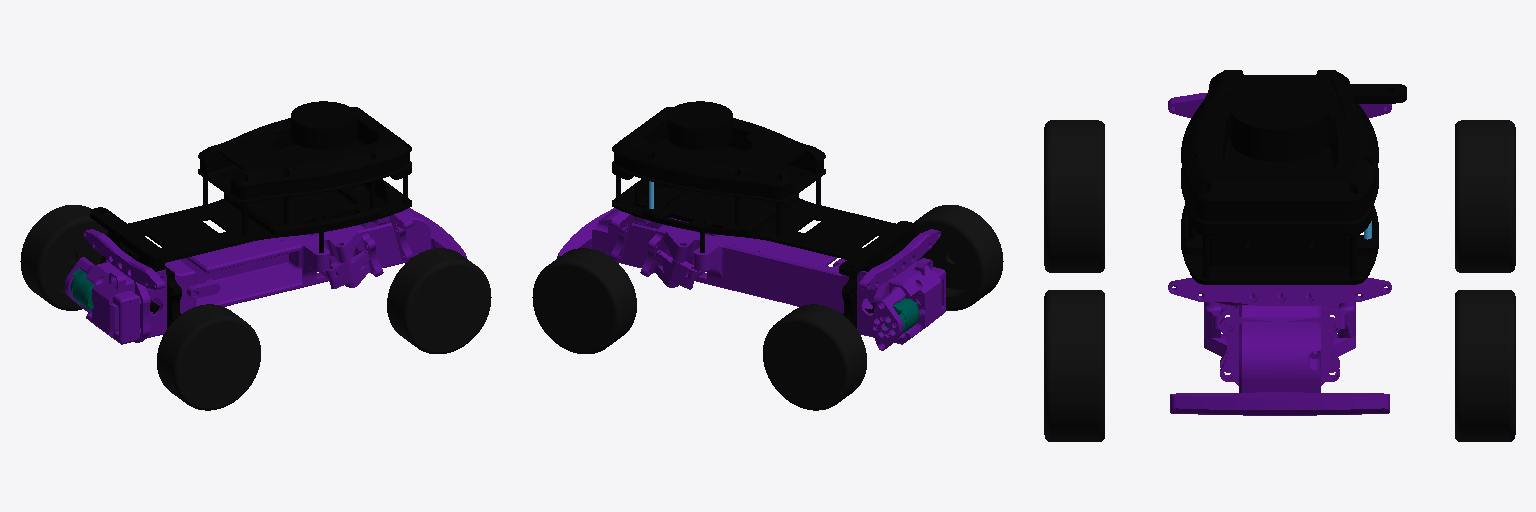
--- Facts derived from the render (not from the file) ---
The picture shows the robot from 3 angles, left to right: view 1: azimuth 30°, elevation 25°; view 2: azimuth 150°, elevation 25°; view 3: azimuth 270°, elevation 25°; orthographic projection.
Robot: car — 15 links, 14 joints (2 revolute, 4 continuous, 4 prismatic, 4 fixed); root link base_link; default pose: all joints at 0.
Visible links, largest first — view 1: chassis_visual, front_right_wheel, rear_right_wheel, rear_left_wheel, base_laser; view 2: chassis_visual, front_left_wheel, rear_left_wheel, rear_right_wheel, base_laser; view 3: chassis_visual, rear_left_wheel, rear_right_wheel, front_left_wheel, front_right_wheel, base_laser.
Link boxes in pixels (left/top/right/bottom): chassis_visual: left=64, top=107, right=466, bottom=344; front_right_wheel: left=387, top=248, right=491, bottom=353; rear_right_wheel: left=157, top=304, right=260, bottom=410; rear_left_wheel: left=20, top=205, right=107, bottom=310; base_laser: left=291, top=101, right=356, bottom=149; chassis_visual: left=557, top=107, right=945, bottom=350; front_left_wheel: left=532, top=248, right=636, bottom=353; rear_left_wheel: left=763, top=304, right=866, bottom=410; rear_right_wheel: left=914, top=205, right=1003, bottom=310; base_laser: left=667, top=101, right=732, bottom=149; chassis_visual: left=1168, top=70, right=1406, bottom=415; rear_left_wheel: left=1455, top=120, right=1515, bottom=272; rear_right_wheel: left=1044, top=120, right=1104, bottom=272; front_left_wheel: left=1455, top=290, right=1515, bottom=441; front_right_wheel: left=1044, top=290, right=1104, bottom=441; base_laser: left=1230, top=88, right=1329, bottom=161.
Size in the robot's own frame: 0.4235 by 0.333 by 0.2275 metres.
Meshes: 30 distinct files referenced, 42 mesh visuals loaded (29 binary STL); not drawn: 1 (reference not matched to a file when rendering).

robot.urdf — car:
<?xml version="1.0" ?>
<!-- =================================================================================== -->
<!-- |    This document was autogenerated by xacro from car.urdf.xacro                 | -->
<!-- |    EDITING THIS FILE BY HAND IS NOT RECOMMENDED                                 | -->
<!-- =================================================================================== -->
<robot name="car">
  <material name="pla">
    <color rgba="0.4 0.1 0.6 1.0"/>
  </material>
  <material name="pla_black">
    <color rgba="0.05 0.05 0.05 1.0"/>
  </material>
  <material name="aluminum">
    <color rgba="0.75 0.75 0.75 1.0"/>
  </material>
  <material name="rubber">
    <color rgba="0.1 0.1 0.1 1"/>
  </material>
  <link name="base_link">
    <inertial>
      <origin rpy="0 -0 0" xyz="0 -0 0.1"/>
      <mass value="1.2"/>
      <inertia ixx="0.00164" ixy="0" ixz="0" iyy="0.01" iyz="0" izz="0.00964"/>
    </inertial>
  </link>
  <link name="chassis_visual">
    <collision>
      <origin rpy="-3.2732333544360483958e-15 0.2617993877991453 -3.141592653589758477" xyz="0.19593310870444985428 -0.023861467502207221042 0.032178813240731983514"/>
      <geometry>
        <mesh filename="package://rviz_description/meshes/a01.stl"/>
      </geometry>
    </collision>
    <visual>
      <origin rpy="-3.2732333544360483958e-15 0.2617993877991453 -3.141592653589758477" xyz="0.19593310870444985428 -0.023861467502207221042 0.032178813240731983514"/>
      <geometry>
        <mesh filename="package://rviz_description/meshes/a01.stl"/>
      </geometry>
      <material name="pla">
        </material>
    </visual>
    <collision>
      <origin rpy="-3.3417470151423496181e-15 1.5267451514876481878e-15 -1.5707963267948608088" xyz="0.041230177353335013823 0.0081385453814205033218 0.046435964631839833638"/>
      <geometry>
        <mesh filename="package://rviz_description/meshes/base_plate.stl"/>
      </geometry>
    </collision>
    <visual>
      <material name="pla_black">
        </material>
      <origin rpy="-3.3417470151423496181e-15 1.5267451514876481878e-15 -1.5707963267948608088" xyz="0.041230177353335013823 0.0081385453814205033218 0.046435964631839833638"/>
      <geometry>
        <mesh filename="package://rviz_description/meshes/base_plate.stl"/>
      </geometry>
    </visual>
    <collision>
      <origin rpy="-3.3417470151423496181e-15 1.5267451514876481878e-15 -1.5707963267948608088" xyz="0.04123017735333503464 0.0081385453814205102607 0.046435964631839812822"/>
      <geometry>
        <mesh filename="package://rviz_description/meshes/lidar_hat.stl"/>
      </geometry>
    </collision>
    <visual>
      <origin rpy="-3.3417470151423496181e-15 1.5267451514876481878e-15 -1.5707963267948608088" xyz="0.04123017735333503464 0.0081385453814205102607 0.046435964631839812822"/>
      <geometry>
        <mesh filename="package://rviz_description/meshes/lidar_hat.stl"/>
      </geometry>
      <material name="pla_black">
        </material>
    </visual>
    <collision>
      <origin rpy="0.2587527927311239484 -0.040277584424269617658 -1.4198241414961039197" xyz="0.13670687602963785268 -0.03936145461857500083 -0.014959800155109849104"/>
      <geometry>
        <mesh filename="package://rviz_description/meshes/a07.stl"/>
      </geometry>
    </collision>
    <visual>
      <origin rpy="0.2587527927311239484 -0.040277584424269617658 -1.4198241414961039197" xyz="0.13670687602963785268 -0.03936145461857500083 -0.014959800155109849104"/>
      <geometry>
        <mesh filename="package://rviz_description/meshes/a07.stl"/>
      </geometry>
      <material name="pla">
        </material>
    </visual>
    <collision>
      <origin rpy="-3.3417470151423511958e-15 1.526745151487648385e-15 -1.5707963267948608088" xyz="0.04123017735333503464 0.0081385453814205033218 0.046435964631839812822"/>
      <geometry>
        <mesh filename="package://rviz_description/meshes/cover_plate.stl"/>
      </geometry>
    </collision>
    <visual>
      <origin rpy="-3.3417470151423511958e-15 1.526745151487648385e-15 -1.5707963267948608088" xyz="0.04123017735333503464 0.0081385453814205033218 0.046435964631839812822"/>
      <geometry>
        <mesh filename="package://rviz_description/meshes/cover_plate.stl"/>
      </geometry>
      <material name="pla_black">
        </material>
    </visual>
    <collision>
      <origin rpy="-1.43313038473456271e-15 -3.2196467714129512062e-15 -3.1415926535897575889" xyz="-0.10551982264666515121 0.0081385453814153008861 -0.013564035368159699235"/>
      <geometry>
        <mesh filename="package://rviz_description/meshes/b01.stl"/>
      </geometry>
    </collision>
    <visual>
      <origin rpy="-1.43313038473456271e-15 -3.2196467714129512062e-15 -3.1415926535897575889" xyz="-0.10551982264666515121 0.0081385453814153008861 -0.013564035368159699235"/>
      <geometry>
        <mesh filename="package://rviz_description/meshes/b01.stl"/>
      </geometry>
      <material name="pla">
        </material>
    </visual>
    <collision>
      <origin rpy="-2.8797932657906391007 -8.7102102948532753564e-16 -1.5707963267948523711" xyz="0.11581879474062792279 0.0085030890984705998631 -0.013879213304290068456"/>
      <geometry>
        <mesh filename="package://rviz_description/meshes/a09.stl"/>
      </geometry>
    </collision>
    <visual>
      <origin rpy="-2.8797932657906391007 -8.7102102948532753564e-16 -1.5707963267948523711" xyz="0.11581879474062792279 0.0085030890984705998631 -0.013879213304290068456"/>
      <geometry>
        <mesh filename="package://rviz_description/meshes/a09.stl"/>
      </geometry>
      <material name="pla">
        </material>
    </visual>
    <collision>
      <origin rpy="1.526745151487648385e-15 3.3417470151423492237e-15 3.5884533940292959508e-14" xyz="0.10673017735333342748 0.052638545381422860436 0.046435964631839680983"/>
      <geometry>
        <mesh filename="package://rviz_description/meshes/40mm_standoff.stl"/>
      </geometry>
    </collision>
    <material name="pla_black">
        </material>
    <visual>
      <origin rpy="1.526745151487648385e-15 3.3417470151423492237e-15 3.5884533940292959508e-14" xyz="0.10673017735333342748 0.052638545381422860436 0.046435964631839680983"/>
      <geometry>
        <mesh filename="package://rviz_description/meshes/40mm_standoff.stl"/>
      </geometry>
    </visual>
    <collision>
      <origin rpy="-3.3439154194872535738e-15 1.4330867597460451378e-15 -1.5707963267948608088" xyz="-0.065119822646664923815 0.0081385453814172559195 -0.013564035368159824135"/>
      <geometry>
        <mesh filename="package://rviz_description/meshes/b12-t.stl"/>
      </geometry>
    </collision>
    <visual>
      <origin rpy="-3.3439154194872535738e-15 1.4330867597460451378e-15 -1.5707963267948608088" xyz="-0.065119822646664923815 0.0081385453814172559195 -0.013564035368159824135"/>
      <geometry>
        <mesh filename="package://rviz_description/meshes/b12-t.stl"/>
      </geometry>
      <material name="pla_black">
        </material>
    </visual>
    <collision>
      <origin rpy="1.526745151487648385e-15 3.3417470151423492237e-15 3.5884533940292959508e-14" xyz="0.15373017735333374678 0.042638545381424579339 0.043435964631839511785"/>
      <geometry>
        <mesh filename="package://rviz_description/meshes/40mm_standoff.stl"/>
      </geometry>
    </collision>
    <visual>
      <origin rpy="1.526745151487648385e-15 3.3417470151423492237e-15 3.5884533940292959508e-14" xyz="0.15373017735333374678 0.042638545381424579339 0.043435964631839511785"/>
      <geometry>
        <mesh filename="package://rviz_description/meshes/40mm_standoff.stl"/>
      </geometry>
      <material name="pla_black">
        </material>
    </visual>
    <collision>
      <origin rpy="-1.5707963267948608088 -1.5707963267948930053 0" xyz="-0.032119822646662896104 -0.028861454618582277343 -0.0055640353681599558078"/>
      <geometry>
        <mesh filename="package://rviz_description/meshes/b08-t.stl"/>
      </geometry>
    </collision>
    <visual>
      <origin rpy="-1.5707963267948608088 -1.5707963267948930053 0" xyz="-0.032119822646662896104 -0.028861454618582277343 -0.0055640353681599558078"/>
      <geometry>
        <mesh filename="package://rviz_description/meshes/b08-t.stl"/>
      </geometry>
      <material name="pla">
        </material>
    </visual>
    <collision>
      <origin rpy="0.2617993877991457996 3.1621891307223835711e-15 -1.5707963267948608088" xyz="0.24460720741232999664 0.0081385324977948994563 -0.035452873509516522055"/>
      <geometry>
        <mesh filename="package://rviz_description/meshes/b07-t.stl"/>
      </geometry>
    </collision>
    <visual>
      <origin rpy="0.2617993877991457996 3.1621891307223835711e-15 -1.5707963267948608088" xyz="0.24460720741232999664 0.0081385324977948994563 -0.035452873509516522055"/>
      <geometry>
        <mesh filename="package://rviz_description/meshes/b07-t.stl"/>
      </geometry>
      <material name="pla">
        </material>
    </visual>
    <collision>
      <origin rpy="1.5267451514876479906e-15 3.3417470151423492237e-15 3.5884533940292953197e-14" xyz="-0.038269822646665875576 0.032638545381417680136 0.046435964631840132011"/>
      <geometry>
        <mesh filename="package://rviz_description/meshes/40mm_standoff.stl"/>
      </geometry>
    </collision>
    <visual>
      <origin rpy="1.5267451514876479906e-15 3.3417470151423492237e-15 3.5884533940292953197e-14" xyz="-0.038269822646665875576 0.032638545381417680136 0.046435964631840132011"/>
      <geometry>
        <mesh filename="package://rviz_description/meshes/40mm_standoff.stl"/>
      </geometry>
      <material name="pla_black">
        </material>
    </visual>
    <collision>
      <origin rpy="1.526745151487648385e-15 3.3417470151423492237e-15 3.5884533940292959508e-14" xyz="0.0492301773533335707 0.044638545381421021463 0.00043596463183986911005"/>
      <geometry>
        <mesh filename="package://rviz_description/meshes/40mm_standoff.stl"/>
      </geometry>
    </collision>
    <visual>
      <origin rpy="1.526745151487648385e-15 3.3417470151423492237e-15 3.5884533940292959508e-14" xyz="0.0492301773533335707 0.044638545381421021463 0.00043596463183986911005"/>
      <geometry>
        <mesh filename="package://rviz_description/meshes/40mm_standoff.stl"/>
      </geometry>
      <material name="pla_black">
        </material>
    </visual>
    <collision>
      <origin rpy="-1.4331303847345621183e-15 -3.3306690738754672547e-15 -3.1415926535897575889" xyz="-0.10551982264666516509 0.0081385453814153130292 -0.013564035368159713113"/>
      <geometry>
        <mesh filename="package://rviz_description/meshes/part_2.stl"/>
      </geometry>
    </collision>
    <visual>
      <origin rpy="-1.4331303847345621183e-15 -3.3306690738754672547e-15 -3.1415926535897575889" xyz="-0.10551982264666516509 0.0081385453814153130292 -0.013564035368159713113"/>
      <geometry>
        <mesh filename="package://rviz_description/meshes/part_2.stl"/>
      </geometry>
      <material name="pla">
        </material>
    </visual>
    <collision>
      <origin rpy="-3.3439154194871900705e-15 1.4331303847345633016e-15 -1.5707963267948608088" xyz="-0.10551982264666515121 0.0081385453814153130292 -0.013564035368159699235"/>
      <geometry>
        <mesh filename="package://rviz_description/meshes/b13-t.stl"/>
      </geometry>
    </collision>
    <visual>
      <origin rpy="-3.3439154194871900705e-15 1.4331303847345633016e-15 -1.5707963267948608088" xyz="-0.10551982264666515121 0.0081385453814153130292 -0.013564035368159699235"/>
      <geometry>
        <mesh filename="package://rviz_description/meshes/b13-t.stl"/>
      </geometry>
      <material name="pla">
        </material>
    </visual>
    <collision>
      <origin rpy="2.8844336259681422341 -0.049625498936387311966 1.3843611128816004641" xyz="0.14330676167974856772 0.055638545381425243141 -0.039590908725481058217"/>
      <geometry>
        <mesh filename="package://rviz_description/meshes/a08.stl"/>
      </geometry>
    </collision>
    <visual>
      <origin rpy="2.8844336259681422341 -0.049625498936387311966 1.3843611128816004641" xyz="0.14330676167974856772 0.055638545381425243141 -0.039590908725481058217"/>
      <geometry>
        <mesh filename="package://rviz_description/meshes/a08.stl"/>
      </geometry>
      <material name="pla">
        </material>
    </visual>
    <collision>
      <origin rpy="1.526745151487648385e-15 3.3417470151423492237e-15 3.5884533940292959508e-14" xyz="0.0067301773533337480582 0.042638545381419312719 0.046435964631840000172"/>
      <geometry>
        <mesh filename="package://rviz_description/meshes/40mm_standoff.stl"/>
      </geometry>
    </collision>
    <visual>
      <origin rpy="1.526745151487648385e-15 3.3417470151423492237e-15 3.5884533940292959508e-14" xyz="0.0067301773533337480582 0.042638545381419312719 0.046435964631840000172"/>
      <geometry>
        <mesh filename="package://rviz_description/meshes/40mm_standoff.stl"/>
      </geometry>
      <material name="pla_black">
        </material>
    </visual>
    <collision>
      <origin rpy="4.3078174863269598053e-15 -3.1621891307225082111e-15 1.5707963267949325292" xyz="0.12586744341350397658 0.008138532497790666731 -0.0092745402476707705652"/>
      <geometry>
        <mesh filename="package://rviz_description/meshes/b06.stl"/>
      </geometry>
    </collision>
    <visual>
      <origin rpy="4.3078174863269598053e-15 -3.1621891307225082111e-15 1.5707963267949325292" xyz="0.12586744341350397658 0.008138532497790666731 -0.0092745402476707705652"/>
      <geometry>
        <mesh filename="package://rviz_description/meshes/b06.stl"/>
      </geometry>
      <material name="pla">
        </material>
    </visual>
    <collision>
      <origin rpy="-3.3417470151423496181e-15 1.5267451514876481878e-15 -1.5707963267948608088" xyz="0.041230177353335013823 0.0081385453814205033218 0.046435964631839833638"/>
      <geometry>
        <mesh filename="package://rviz_description/meshes/jetson_retainer.stl"/>
      </geometry>
    </collision>
    <visual>
      <origin rpy="-3.3417470151423496181e-15 1.5267451514876481878e-15 -1.5707963267948608088" xyz="0.041230177353335013823 0.0081385453814205033218 0.046435964631839833638"/>
      <geometry>
        <mesh filename="package://rviz_description/meshes/jetson_retainer.stl"/>
      </geometry>
      <material name="pla_black">
        </material>
    </visual>
    <collision>
      <origin rpy="1.5267451514876479906e-15 3.3417470151423492237e-15 3.5884533940292953197e-14" xyz="-0.038269822646662864096 -0.051361454618582318143 0.046435964631840007111"/>
      <geometry>
        <mesh filename="package://rviz_description/meshes/40mm_standoff.stl"/>
      </geometry>
    </collision>
    <visual>
      <origin rpy="1.5267451514876479906e-15 3.3417470151423492237e-15 3.5884533940292953197e-14" xyz="-0.038269822646662864096 -0.051361454618582318143 0.046435964631840007111"/>
      <geometry>
        <mesh filename="package://rviz_description/meshes/40mm_standoff.stl"/>
      </geometry>
      <material name="pla_black">
        </material>
    </visual>
    <collision>
      <origin rpy="3.2480448936603616627e-15 -0.26179938779914585512 3.433500897612185996e-14" xyz="0.22101359100135384295 0.0081385324977937927027 -0.038251207674764947653"/>
      <geometry>
        <mesh filename="package://rviz_description/meshes/b10-t.stl"/>
      </geometry>
    </collision>
    <visual>
      <origin rpy="3.2480448936603616627e-15 -0.26179938779914585512 3.433500897612185996e-14" xyz="0.22101359100135384295 0.0081385324977937927027 -0.038251207674764947653"/>
      <geometry>
        <mesh filename="package://rviz_description/meshes/b10-t.stl"/>
      </geometry>
      <material name="pla">
        </material>
    </visual>
    <collision>
      <origin rpy="1.526745151487648385e-15 3.3417470151423492237e-15 3.5884533940292959508e-14" xyz="0.10673017735333786837 -0.071361454618577097042 0.046435964631839493633"/>
      <geometry>
        <mesh filename="package://rviz_description/meshes/40mm_standoff.stl"/>
      </geometry>
    </collision>
    <visual>
      <origin rpy="1.526745151487648385e-15 3.3417470151423492237e-15 3.5884533940292959508e-14" xyz="0.10673017735333786837 -0.071361454618577097042 0.046435964631839493633"/>
      <geometry>
        <mesh filename="package://rviz_description/meshes/40mm_standoff.stl"/>
      </geometry>
      <material name="pla_black">
        </material>
    </visual>
    <collision>
      <origin rpy="-3.0164863633966998656e-15 1.5267451514876481878e-15 -1.5707963267948608088" xyz="0.041230177353335041579 0.0081385453814205033218 0.046435964631839792005"/>
      <geometry>
        <mesh filename="package://rviz_description/meshes/realsense_mount.stl"/>
      </geometry>
    </collision>
    <visual>
      <origin rpy="-3.0164863633966998656e-15 1.5267451514876481878e-15 -1.5707963267948608088" xyz="0.041230177353335041579 0.0081385453814205033218 0.046435964631839792005"/>
      <geometry>
        <mesh filename="package://rviz_description/meshes/realsense_mount.stl"/>
      </geometry>
      <material name="pla_black">
        </material>
    </visual>
    <collision>
      <origin rpy="-3.3417470151423472515e-15 1.526745151487648385e-15 -1.5707963267948608088" xyz="0.041230177353335006885 0.0081385453814205102607 0.046435964631839847516"/>
      <geometry>
        <mesh filename="package://rviz_description/meshes/camera_mount.stl"/>
      </geometry>
    </collision>
    <visual>
      <origin rpy="-3.3417470151423472515e-15 1.526745151487648385e-15 -1.5707963267948608088" xyz="0.041230177353335006885 0.0081385453814205102607 0.046435964631839847516"/>
      <geometry>
        <mesh filename="package://rviz_description/meshes/camera_mount.stl"/>
      </geometry>
      <material name="pla_black">
        </material>
    </visual>
    <collision>
      <origin rpy="1.526745151487648385e-15 3.3417470151423492237e-15 3.5884533940292959508e-14" xyz="0.15373017735333746603 -0.061361454618575429765 0.04343596463183935219"/>
      <geometry>
        <mesh filename="package://rviz_description/meshes/40mm_standoff.stl"/>
      </geometry>
    </collision>
    <visual>
      <origin rpy="1.526745151487648385e-15 3.3417470151423492237e-15 3.5884533940292959508e-14" xyz="0.15373017735333746603 -0.061361454618575429765 0.04343596463183935219"/>
      <geometry>
        <mesh filename="package://rviz_description/meshes/40mm_standoff.stl"/>
      </geometry>
      <material name="pla_black">
        </material>
    </visual>
    <collision>
      <origin rpy="1.526745151487648385e-15 3.3417470151423492237e-15 3.5884533940292959508e-14" xyz="0.0067301773533374811831 -0.061361454618580710263 0.046435964631839840577"/>
      <geometry>
        <mesh filename="package://rviz_description/meshes/40mm_standoff.stl"/>
      </geometry>
    </collision>
    <visual>
      <origin rpy="1.526745151487648385e-15 3.3417470151423492237e-15 3.5884533940292959508e-14" xyz="0.0067301773533374811831 -0.061361454618580710263 0.046435964631839840577"/>
      <geometry>
        <mesh filename="package://rviz_description/meshes/40mm_standoff.stl"/>
      </geometry>
      <material name="pla_black">
        </material>
    </visual>
    <collision>
      <origin rpy="3.3439154194872543626e-15 -1.4330867597460451378e-15 1.5707963267949325292" xyz="-0.050119822646664632937 0.0081385453814177832754 -0.013564035368159851891"/>
      <geometry>
        <mesh filename="package://rviz_description/meshes/b03.stl"/>
      </geometry>
    </collision>
    <visual>
      <origin rpy="3.3439154194872543626e-15 -1.4330867597460451378e-15 1.5707963267949325292" xyz="-0.050119822646664632937 0.0081385453814177832754 -0.013564035368159851891"/>
      <geometry>
        <mesh filename="package://rviz_description/meshes/b03.stl"/>
      </geometry>
      <material name="pla">
        </material>
    </visual>
    <collision>
      <origin rpy="0.43633231299858099561 8.8446785216018959125e-15 -1.570796326794876574" xyz="-0.12901982264666711497 0.064138545381414474589 -0.013564035368159574335"/>
      <geometry>
        <mesh filename="package://rviz_description/meshes/d3542_outrunner.stl"/>
      </geometry>
    </collision>
    <visual>
      <origin rpy="0.43633231299858099561 8.8446785216018959125e-15 -1.570796326794876574" xyz="-0.12901982264666711497 0.064138545381414474589 -0.013564035368159574335"/>
      <geometry>
        <mesh filename="package://rviz_description/meshes/d3542_outrunner.stl"/>
      </geometry>
      <material name="d3542_outrunner_material">
        <color rgba="0 0.35686274509803922461 0.32941176470588234837 1.0"/>
      </material>
    </visual>
    <collision>
      <origin rpy="1.6011428891772994204e-15 3.3981255281114641089e-15 3.5717849562625222259e-14" xyz="-0.11051982264666632139 0.040138545381416090851 0.031435964631840389305"/>
      <geometry>
        <mesh filename="package://rviz_description/meshes/a01.stl"/>
      </geometry>
    </collision>
    <visual>
      <origin rpy="1.6011428891772994204e-15 3.3981255281114641089e-15 3.5717849562625222259e-14" xyz="-0.11051982264666632139 0.040138545381416090851 0.031435964631840389305"/>
      <geometry>
        <mesh filename="package://rviz_description/meshes/a01.stl"/>
      </geometry>
      <material name="pla">
        </material>
    </visual>
    <collision>
      <origin rpy="1.526745151487648385e-15 3.3417470151423492237e-15 3.5884533940292959508e-14" xyz="0.049230177353337428725 -0.063361454618579240994 0.0004359646318397025766"/>
      <geometry>
        <mesh filename="package://rviz_description/meshes/40mm_standoff.stl"/>
      </geometry>
    </collision>
    <visual>
      <origin rpy="1.526745151487648385e-15 3.3417470151423492237e-15 3.5884533940292959508e-14" xyz="0.049230177353337428725 -0.063361454618579240994 0.0004359646318397025766"/>
      <geometry>
        <mesh filename="package://rviz_description/meshes/40mm_standoff.stl"/>
      </geometry>
      <material name="pla_black">
        </material>
    </visual>
    <collision>
      <origin rpy="-3.3439154194871904649e-15 1.4330867597460451378e-15 -1.5707963267948608088" xyz="0.041230177353335076273 0.0081385453814204963829 0.046435964631839833638"/>
      <geometry>
        <mesh filename="package://rviz_description/meshes/standoff.stl"/>
      </geometry>
    </collision>
    <visual>
      <origin rpy="-3.3439154194871904649e-15 1.4330867597460451378e-15 -1.5707963267948608088" xyz="0.041230177353335076273 0.0081385453814204963829 0.046435964631839833638"/>
      <geometry>
        <mesh filename="package://rviz_description/meshes/standoff.stl"/>
      </geometry>
      <material name="pla_black">
        </material>
    </visual>
    <collision>
      <origin rpy="3.3439154194870453145e-15 -1.433086759746045335e-15 1.5707963267949325292" xyz="0.12788017735333867542 0.0081385453814246562498 -0.0090640353681604272917"/>
      <geometry>
        <mesh filename="package://rviz_description/meshes/b04.stl"/>
      </geometry>
    </collision>
    <visual>
      <origin rpy="3.3439154194870453145e-15 -1.433086759746045335e-15 1.5707963267949325292" xyz="0.12788017735333867542 0.0081385453814246562498 -0.0090640353681604272917"/>
      <geometry>
        <mesh filename="package://rviz_description/meshes/b04.stl"/>
      </geometry>
      <material name="pla">
        </material>
    </visual>
    <collision>
      <origin rpy="1.4676123883958270544e-15 -0.26179938779914596614 3.4861785429647465616e-14" xyz="0.18161669153330300963 0.0081385324977922210432 -0.038040702795254434376"/>
      <geometry>
        <mesh filename="package://rviz_description/meshes/b11-t.stl"/>
      </geometry>
    </collision>
    <visual>
      <origin rpy="1.4676123883958270544e-15 -0.26179938779914596614 3.4861785429647465616e-14" xyz="0.18161669153330300963 0.0081385324977922210432 -0.038040702795254434376"/>
      <geometry>
        <mesh filename="package://rviz_description/meshes/b11-t.stl"/>
      </geometry>
      <material name="pla">
        </material>
    </visual>
    <collision>
      <origin rpy="-3.3417470151423496181e-15 1.5267451514876481878e-15 -1.5707963267948608088" xyz="0.04123017735333503464 0.0081385453814205033218 0.046435964631839833638"/>
      <geometry>
        <mesh filename="package://rviz_description/meshes/standoff-_copy.stl"/>
      </geometry>
    </collision>
    <visual>
      <origin rpy="-3.3417470151423496181e-15 1.5267451514876481878e-15 -1.5707963267948608088" xyz="0.04123017735333503464 0.0081385453814205033218 0.046435964631839833638"/>
      <geometry>
        <mesh filename="package://rviz_description/meshes/standoff-_copy.stl"/>
      </geometry>
      <material name="pla_black">
        </material>
    </visual>
    <collision>
      <origin rpy="3.3439154194871888872e-15 -1.4330867597460451378e-15 1.5707963267949325292" xyz="-0.10551982264666515121 0.0081385453814153130292 -0.013564035368159713113"/>
      <geometry>
        <mesh filename="package://rviz_description/meshes/b02.stl"/>
      </geometry>
    </collision>
    <visual>
      <origin rpy="3.3439154194871888872e-15 -1.4330867597460451378e-15 1.5707963267949325292" xyz="-0.10551982264666515121 0.0081385453814153130292 -0.013564035368159713113"/>
      <geometry>
        <mesh filename="package://rviz_description/meshes/b02.stl"/>
      </geometry>
      <material name="pla">
        </material>
    </visual>
    <collision>
      <origin rpy="1.5707963267948952257 -3.2751579226442046945e-15 -3.1415926535897575889" xyz="-0.12901982264666744804 0.072138545381414481694 -0.013564035368159532702"/>
      <geometry>
        <mesh filename="package://rviz_description/meshes/b09.stl"/>
      </geometry>
    </collision>
    <visual>
      <origin rpy="1.5707963267948952257 -3.2751579226442046945e-15 -3.1415926535897575889" xyz="-0.12901982264666744804 0.072138545381414481694 -0.013564035368159532702"/>
      <geometry>
        <mesh filename="package://rviz_description/meshes/b09.stl"/>
      </geometry>
      <material name="pla">
        </material>
    </visual>
    <collision>
      <origin rpy="3.7090944556931678116e-15 -3.1325576587181193622e-15 1.5707963267949325292" xyz="0.13000840675429184423 0.008138532497790597342 -0.009274540247670853832"/>
      <geometry>
        <mesh filename="package://rviz_description/meshes/b05.stl"/>
      </geometry>
    </collision>
    <visual>
      <origin rpy="3.7090944556931678116e-15 -3.1325576587181193622e-15 1.5707963267949325292" xyz="0.13000840675429184423 0.008138532497790597342 -0.009274540247670853832"/>
      <geometry>
        <mesh filename="package://rviz_description/meshes/b05.stl"/>
      </geometry>
      <material name="pla">
        </material>
    </visual>
  </link>
  <link name="base_footprint"/>
  <link name="base_laser">
    <inertial>
      <mass value="0.0"/>
      <inertia ixx="0.0" ixy="0.0" ixz="0.0" iyy="0.0" iyz="0.0" izz="0.0"/>
    </inertial>
    <collision>
      <geometry>
        <cylinder length="0.025" radius="0.035"/>
      </geometry>
    </collision>
    <visual>
      <geometry>
        <cylinder length="0.025" radius="0.035"/>
      </geometry>
      <material name="pla_black"/>
    </visual>
  </link>
  <link name="camera_link">
    <inertial>
      <mass value="0.0"/>
      <inertia ixx="0.0" ixy="0.0" ixz="0.0" iyy="0.0" iyz="0.0" izz="0.0"/>
    </inertial>
    <collision>
      <geometry>
        <mesh filename="package://rviz_description/meshes/d435.stl" scale="0.001 0.001 0.001"/>
      </geometry>
    </collision>
    <visual>
      <geometry>
        <mesh filename="package://rviz_description/meshes/d435.stl" scale="0.001 0.001 0.001"/>
      </geometry>
      <material name="aluminum"/>
    </visual>
  </link>
  <link name="rear_left_wheel">
    <inertial>
      <mass value="0.1"/>
      <inertia ixx="0.0000729" ixy="0" ixz="0" iyy="0.0000729" iyz="0" izz="0.0001458"/>
    </inertial>
    <visual>
      <geometry>
        <mesh filename="package://rviz_description/meshes/wheel_110mm.stl"/>
      </geometry>
      <material name="rubber"/>
    </visual>
    <collision name="collision">
      <origin rpy="0 0 0" xyz="0 0 0.0215"/>
      <geometry>
        <cylinder length="0.043" radius="0.054"/>
      </geometry>
    </collision>
  </link>
  <link name="rear_right_wheel">
    <inertial>
      <mass value="0.1"/>
      <inertia ixx="0.0000729" ixy="0" ixz="0" iyy="0.0000729" iyz="0" izz="0.0001458"/>
    </inertial>
    <visual>
      <geometry>
        <mesh filename="package://rviz_description/meshes/wheel_110mm.stl"/>
      </geometry>
      <material name="rubber"/>
    </visual>
    <collision name="collision">
      <origin rpy="0 0 0" xyz="0 0 0.0215"/>
      <geometry>
        <cylinder length="0.043" radius="0.054"/>
      </geometry>
    </collision>
  </link>
  <link name="front_left_wheel">
    <inertial>
      <mass value="0.1"/>
      <inertia ixx="0.0000729" ixy="0" ixz="0" iyy="0.0000729" iyz="0" izz="0.0001458"/>
    </inertial>
    <visual>
      <geometry>
        <mesh filename="package://rviz_description/meshes/wheel_110mm.stl"/>
      </geometry>
      <material name="rubber"/>
    </visual>
    <collision name="collision">
      <origin rpy="0 0 0" xyz="0 0 0.0215"/>
      <geometry>
        <cylinder length="0.043" radius="0.054"/>
      </geometry>
    </collision>
  </link>
  <link name="front_right_wheel">
    <inertial>
      <mass value="0.1"/>
      <inertia ixx="0.0000729" ixy="0" ixz="0" iyy="0.0000729" iyz="0" izz="0.0001458"/>
    </inertial>
    <visual>
      <geometry>
        <mesh filename="package://rviz_description/meshes/wheel_110mm.stl"/>
      </geometry>
      <material name="rubber"/>
    </visual>
    <collision name="collision">
      <origin rpy="0 0 0" xyz="0 0 0.0215"/>
      <geometry>
        <cylinder length="0.043" radius="0.054"/>
      </geometry>
    </collision>
  </link>
  <link name="front_left_hub">
    <inertial>
      <mass value="0.0"/>
      <inertia ixx="0.0" ixy="0" ixz="0" iyy="0.0" iyz="0" izz="0.0"/>
    </inertial>
    <collision name="collision">
      <geometry>
        <box size="0.001 0.001 0.001"/>
      </geometry>
    </collision>
  </link>
  <link name="front_right_hub">
    <inertial>
      <mass value="0.0"/>
      <inertia ixx="0.0" ixy="0" ixz="0" iyy="0.0" iyz="0" izz="0.0"/>
    </inertial>
    <collision name="collision">
      <geometry>
        <box size="0.001 0.001 0.001"/>
      </geometry>
    </collision>
  </link>
  <link name="front_right_suspension">
    <inertial>
      <mass value="0.0"/>
      <inertia ixx="0.0" ixy="0" ixz="0" iyy="0.0" iyz="0" izz="0.0"/>
    </inertial>
  </link>
  <link name="front_left_suspension">
    <inertial>
      <mass value="0.0"/>
      <inertia ixx="0.0" ixy="0" ixz="0" iyy="0.0" iyz="0" izz="0.0"/>
    </inertial>
  </link>
  <link name="rear_right_suspension">
    <inertial>
      <mass value="0.0"/>
      <inertia ixx="0.0" ixy="0" ixz="0" iyy="0.0" iyz="0" izz="0.0"/>
    </inertial>
  </link>
  <link name="rear_left_suspension">
    <inertial>
      <mass value="0.0"/>
      <inertia ixx="0.0" ixy="0" ixz="0" iyy="0.0" iyz="0" izz="0.0"/>
    </inertial>
  </link>
  <joint name="base_joint" type="fixed">
    <parent link="base_link"/>
    <child link="base_footprint"/>
    <origin rpy="0.0 0.0 0.0" xyz="0.0 0.0 -0.0"/>
  </joint>
  <joint name="base_chassis_visual" type="fixed">
    <parent link="base_link"/>
    <child link="chassis_visual"/>
    <origin rpy="0.0 0.0 0.0" xyz="-0.055 -0.0081385453814205033218 0.08"/>
  </joint>
  <joint name="lidar_sensor_joint" type="fixed">
    <origin rpy="0 0 0" xyz="0.08 -0 0.215"/>
    <parent link="base_link"/>
    <child link="base_laser"/>
  </joint>
  <joint name="camera_sensor_joint" type="fixed">
    <origin rpy="1.5707 0 1.5707" xyz="0.1575 -0 0.145"/>
    <parent link="base_link"/>
    <child link="camera_link"/>
  </joint>
  <joint name="rear_left_wheel_joint" type="continuous">
    <origin rpy="-1.5707 0 3.1415926" xyz="-0.145 0.1665 0.054"/>
    <parent link="rear_left_suspension"/>
    <child link="rear_left_wheel"/>
    <axis xyz="0 0 1"/>
  </joint>
  <joint name="rear_right_wheel_joint" type="continuous">
    <origin rpy="-1.5707 0 0" xyz="-0.145 -0.1665 0.054"/>
    <parent link="rear_right_suspension"/>
    <child link="rear_right_wheel"/>
    <axis xyz="0 0 1"/>
  </joint>
  <joint name="front_left_wheel_joint" type="continuous">
    <origin rpy="-1.5707 0 3.1415926" xyz="-0 0.0415 0"/>
    <parent link="front_left_hub"/>
    <child link="front_left_wheel"/>
    <axis xyz="0 0 1"/>
  </joint>
  <joint name="front_right_wheel_joint" type="continuous">
    <origin rpy="-1.5707 0 0" xyz="-0 -0.0415 0"/>
    <parent link="front_right_hub"/>
    <child link="front_right_wheel"/>
    <axis xyz="0 0 1"/>
  </joint>
  <joint name="front_left_hub_joint" type="revolute">
    <origin rpy="0 0 0" xyz="0.138 0.125 0.054"/>
    <limit effort="1000." lower="-0.5" upper="0.5" velocity="5.0"/>
    <parent link="front_left_suspension"/>
    <child link="front_left_hub"/>
    <axis xyz="0 0 1"/>
  </joint>
  <joint name="front_right_hub_joint" type="revolute">
    <origin rpy="0 0 0" xyz="0.138 -0.125 0.054"/>
    <limit effort="1000." lower="-0.5" upper="0.5" velocity="5.0"/>
    <parent link="front_right_suspension"/>
    <child link="front_right_hub"/>
    <axis xyz="0 0 1"/>
  </joint>
  <joint name="front_right_suspension_joint" type="prismatic">
    <origin rpy="0 0 0" xyz="0.0 -0.0 0.0"/>
    <limit effort="1000." lower="0." upper="0.04" velocity="100."/>
    <parent link="base_link"/>
    <child link="front_right_suspension"/>
    <axis xyz="0 0 1"/>
  </joint>
  <joint name="front_left_suspension_joint" type="prismatic">
    <origin rpy="0 0 0" xyz="0.0 -0.0 0.0"/>
    <limit effort="1000." lower="0." upper="0.04" velocity="100."/>
    <parent link="base_link"/>
    <child link="front_left_suspension"/>
    <axis xyz="0 0 1"/>
  </joint>
  <joint name="rear_right_suspension_joint" type="prismatic">
    <origin rpy="0 0 0" xyz="0.0 -0.0 0.0"/>
    <limit effort="1000." lower="0." upper="0.04" velocity="100."/>
    <parent link="base_link"/>
    <child link="rear_right_suspension"/>
    <axis xyz="0 0 1"/>
  </joint>
  <joint name="rear_left_suspension_joint" type="prismatic">
    <origin rpy="0 0 0" xyz="0.0 -0.0 0.0"/>
    <limit effort="1000." lower="0." upper="0.04" velocity="100."/>
    <parent link="base_link"/>
    <child link="rear_left_suspension"/>
    <axis xyz="0 0 1"/>
  </joint>
</robot>
